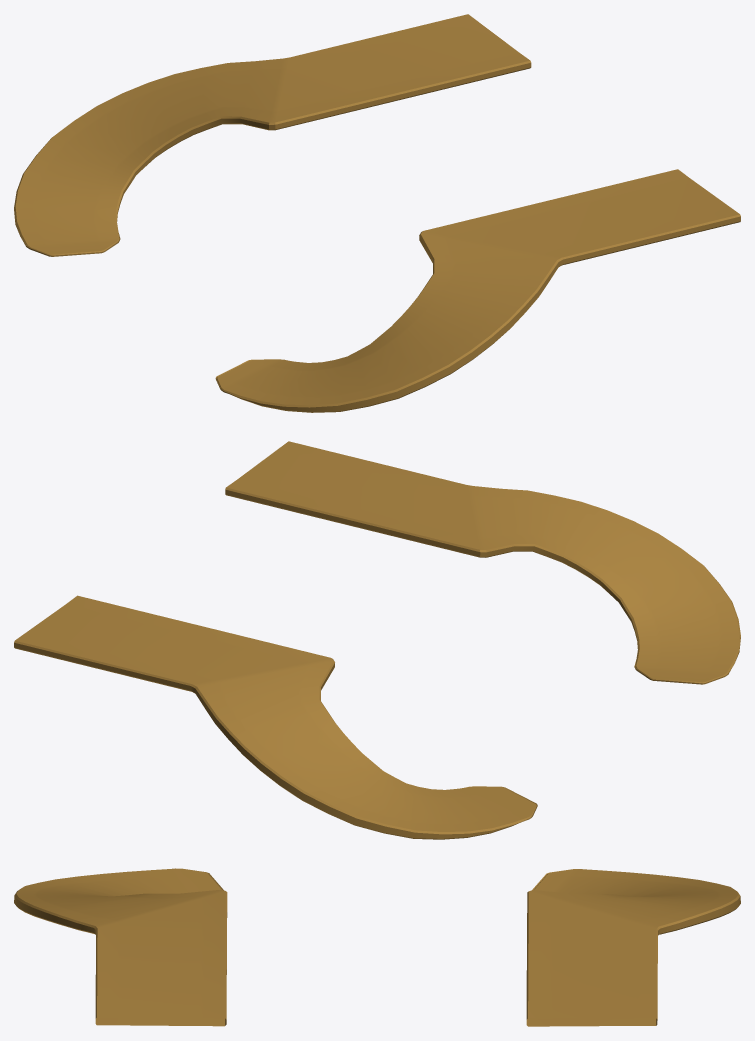
Rendered from GoldenRamps.fbx.
3 views of the same model, one above another, from view 1: azimuth 30°, elevation 25°; view 2: azimuth 150°, elevation 25°; view 3: azimuth 270°, elevation 25° (orthographic). The views are drawn at different scales.
Parts seen in each view (by area): view 1: Circle.006; view 2: Circle.006; view 3: Circle.006.
Part boxes in pixels (<box>): Circle.006: <box>14,14,740,412</box>; Circle.006: <box>14,441,740,839</box>; Circle.006: <box>14,868,740,1026</box>.
Bounding box in the file's own units: 5697 × 1018 × 7306.
